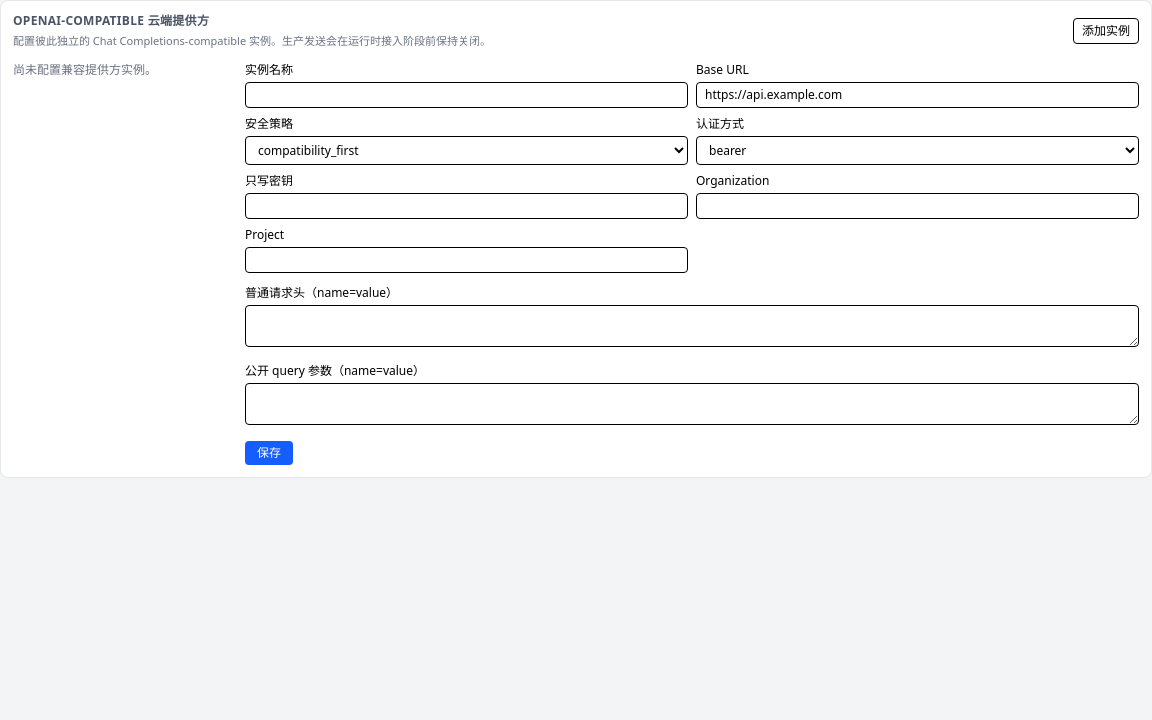
Scenario: CompatibleProviderSettingsPanel › offers explicit plaintext persistence only on Linux
In the field with test id "compatible-display-name": (466, 94) left=245, top=82, right=688, bottom=108, type "First"
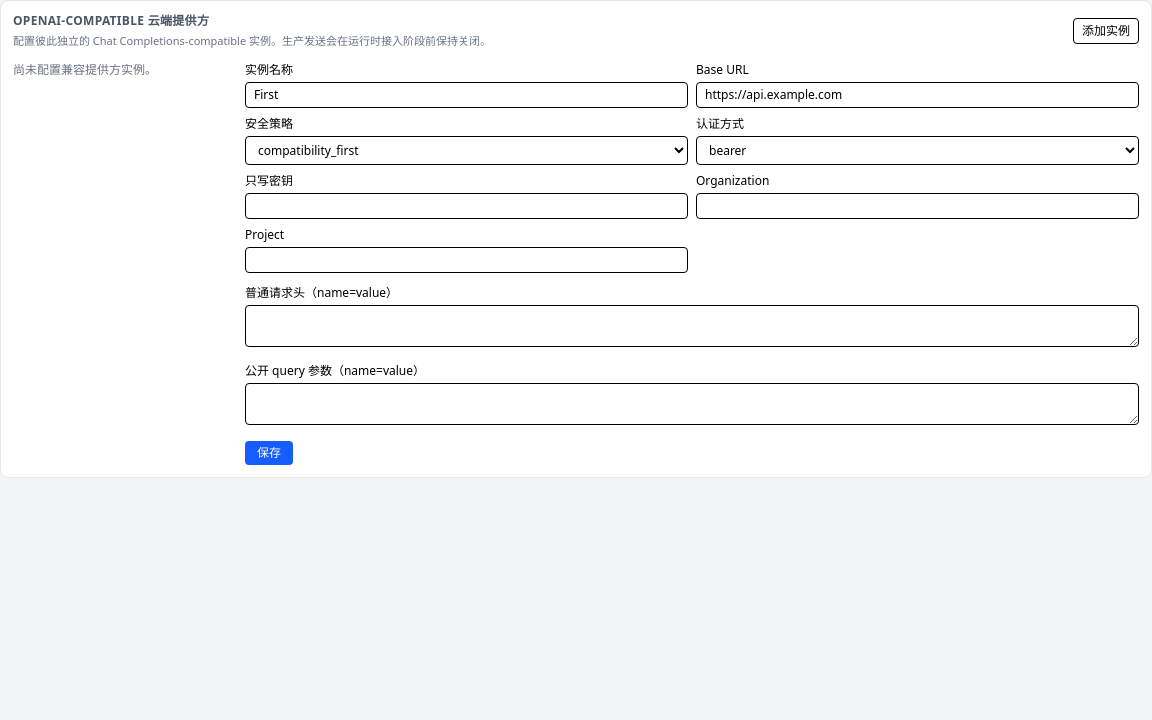
In the password field with test id "compatible-secret-input": (466, 206) left=245, top=192, right=688, bottom=218, type "linux-choice-secret"
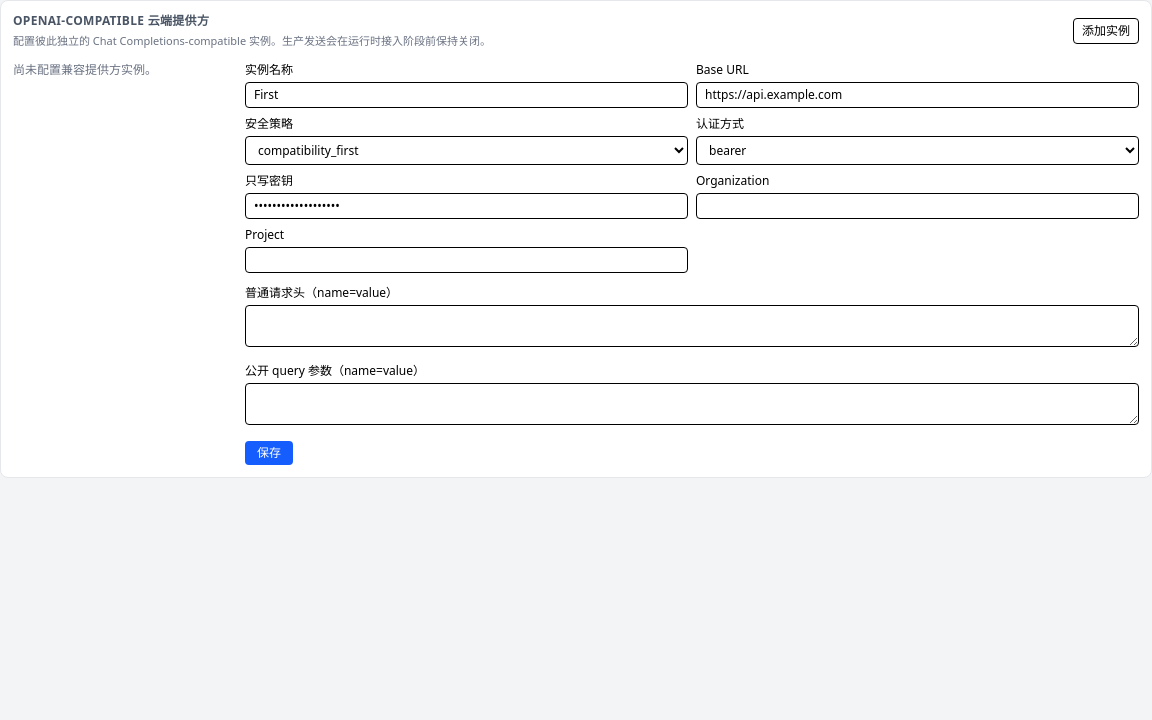
Click the button with test id "compatible-save": (269, 452) left=245, top=440, right=293, bottom=464
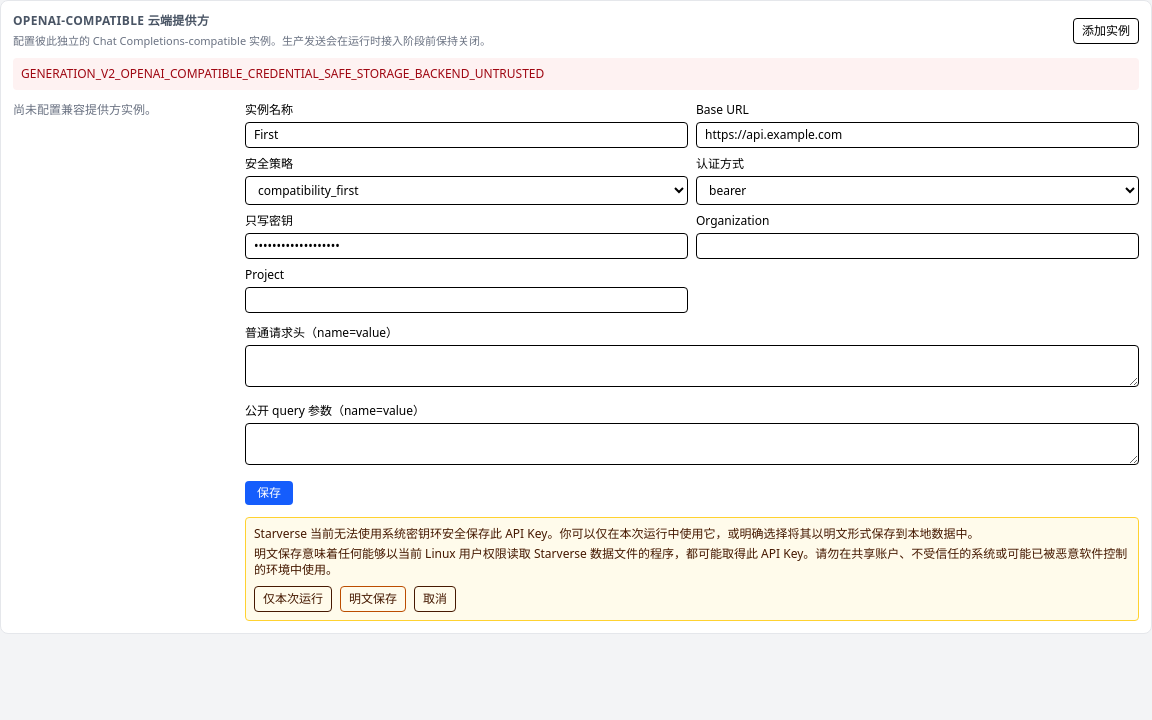
Expected: the element with test id "compatible-credential-storage-choice" is shown, left=245, top=516, right=1139, bottom=620
Expected: the button with test id "compatible-save-plaintext" is shown, left=340, top=586, right=406, bottom=612
